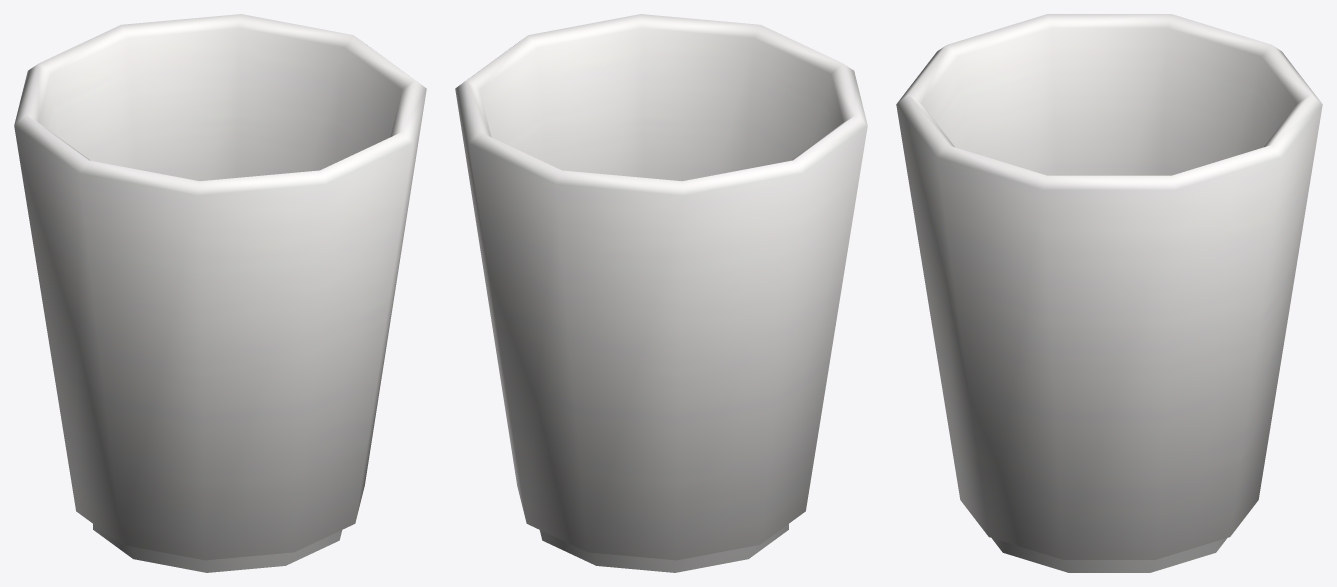
The model's file is VendingCupPolystyrene.fbx.
The picture shows the model from 3 angles, left to right: view 1: azimuth 30°, elevation 25°; view 2: azimuth 150°, elevation 25°; view 3: azimuth 270°, elevation 25°; orthographic projection.
Parts seen in each view (by area): view 1: VendingCupPolystyrene; view 2: VendingCupPolystyrene; view 3: VendingCupPolystyrene.
Part boxes in pixels (box(x1,y1,x2,y2)): VendingCupPolystyrene: box(14, 14, 426, 572); VendingCupPolystyrene: box(455, 14, 867, 572); VendingCupPolystyrene: box(896, 14, 1322, 572).
Bounding box in the file's own units: 10.18 × 11.77 × 10.7.
